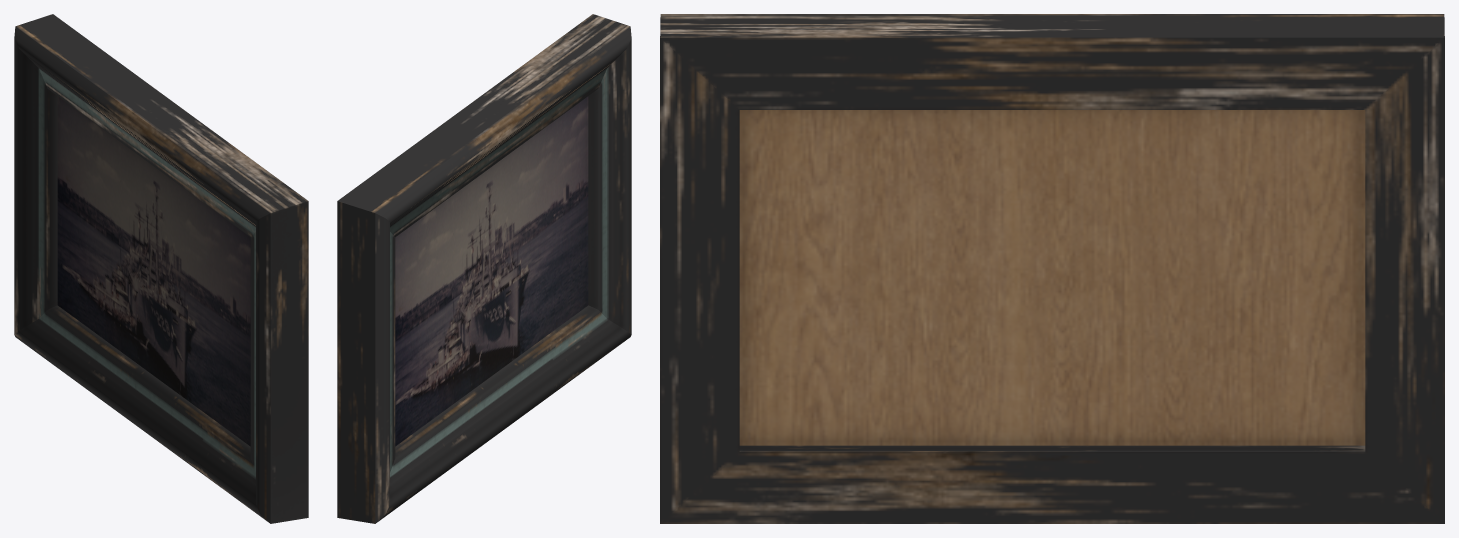
The model's file is SM_Picture_01.fbx.
3 views of the same model, side by side, from view 1: azimuth 30°, elevation 25°; view 2: azimuth 150°, elevation 25°; view 3: azimuth 270°, elevation 25° (orthographic). The views are drawn at different scales.
Parts seen in each view (by area): view 1: SM_Picture_01_LOD0; view 2: SM_Picture_01_LOD0; view 3: SM_Picture_01_LOD0.
Boxes of the visible parts, bbox=[...] form: SM_Picture_01_LOD0: bbox=[14, 14, 308, 523]; SM_Picture_01_LOD0: bbox=[337, 14, 631, 523]; SM_Picture_01_LOD0: bbox=[660, 14, 1444, 523].
Bounding box in the file's own units: 4.24 × 43.33 × 29.63.
